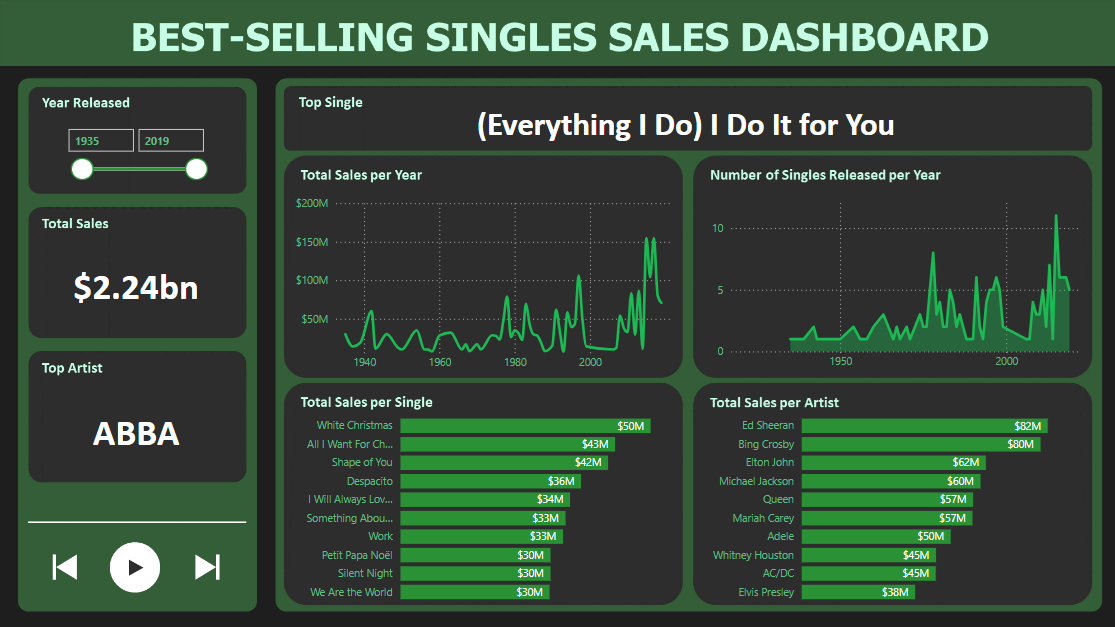

This screenshot's page, from the dashboard's own definition file:
{"tool":"powerbi","page":{"name":"Page 1","canvas":[1280,720],"ordinal":0},"visuals":[{"type":"lineChart","title":"Total Sales per Year","fields":{"Y":["Sum(public Best Selling Singles.Sales)"],"Category":["public Best Selling Singles.Year Released"]},"box":[332.5,218.8,441.2,213.8],"z":0},{"type":"barChart","title":"Total Sales per Artist","fields":{"Category":["public Best Selling Singles.Artist"],"Y":["Sum(public Best Selling Singles.Sales)"]},"box":[801.7,456.7,450,241.7],"z":1000},{"type":"barChart","title":"Total Sales per Single","fields":{"Category":["public Best Selling Singles.Single"],"Y":["Sum(public Best Selling Singles.Sales)"]},"box":[333.3,456.7,450,241.7],"z":2000},{"type":"areaChart","title":"Number of Singles Released per Year","fields":{"Category":["public Best Selling Singles.Year Released"],"Y":["CountNonNull(public Best Selling Singles.Single)"]},"box":[808.9,219.2,435.6,213.3],"z":3000},{"type":"card","fields":{"Values":["public Best Selling Singles.TopSingle"]},"box":[323.3,123.3,920,43.3],"z":6000},{"type":"card","fields":{"Values":["Sum(public Best Selling Singles.Sales)"]},"box":[35.6,267.8,240,105.6],"z":11501},{"type":"slicer","fields":{"Values":["public Best Selling Singles.Year Released"]},"box":[65.6,136.7,180,73.3],"z":12001},{"type":"card","fields":{"Values":["public Best Selling Singles.TopArtist"]},"box":[35.6,433.3,240,106.7],"z":12501}]}

Visuals, with their boxes in screenshot pixels (x1, y1, x2, y2), scaled from the page's 1280x720 canvas onto the 1115x627 screenshot:
"Total Sales per Year" lineChart: bbox=(290, 191, 674, 377)
"Total Sales per Artist" barChart: bbox=(698, 398, 1090, 608)
"Total Sales per Single" barChart: bbox=(290, 398, 682, 608)
"Number of Singles Released per Year" areaChart: bbox=(705, 191, 1084, 377)
card - public Best Selling Singles.TopSingle: bbox=(282, 107, 1083, 145)
card - Sum(public Best Selling Singles.Sales): bbox=(31, 233, 240, 325)
slicer - public Best Selling Singles.Year Released: bbox=(57, 119, 214, 183)
card - public Best Selling Singles.TopArtist: bbox=(31, 377, 240, 470)
